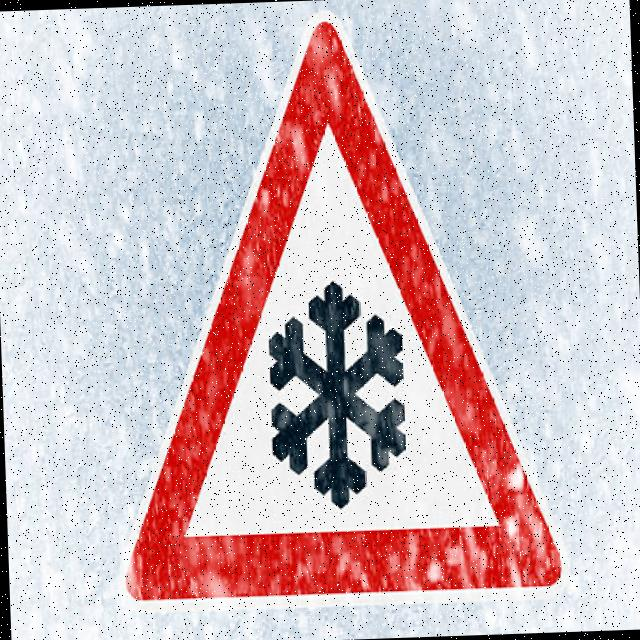snow_warning: (93, 0, 570, 624)
